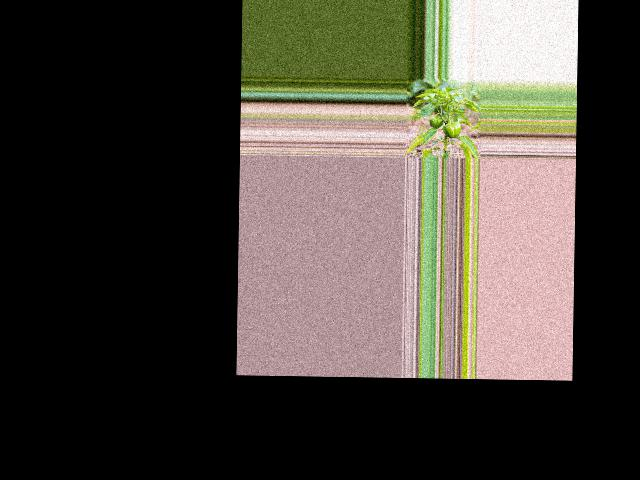bell_pepper: (428, 115, 443, 129)
